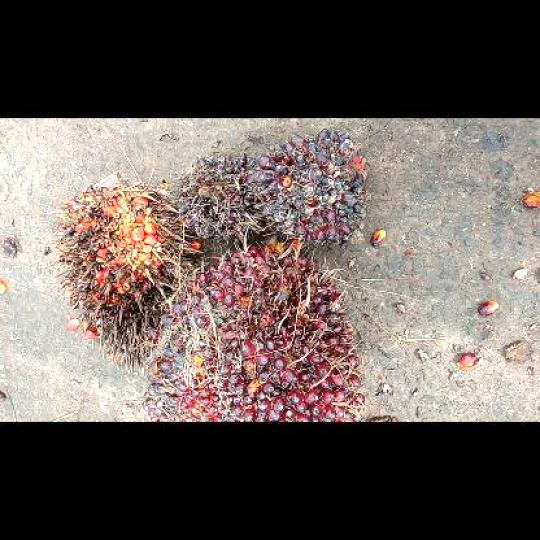masak: (137, 244, 369, 421)
terlalu masak: (48, 169, 193, 376)
